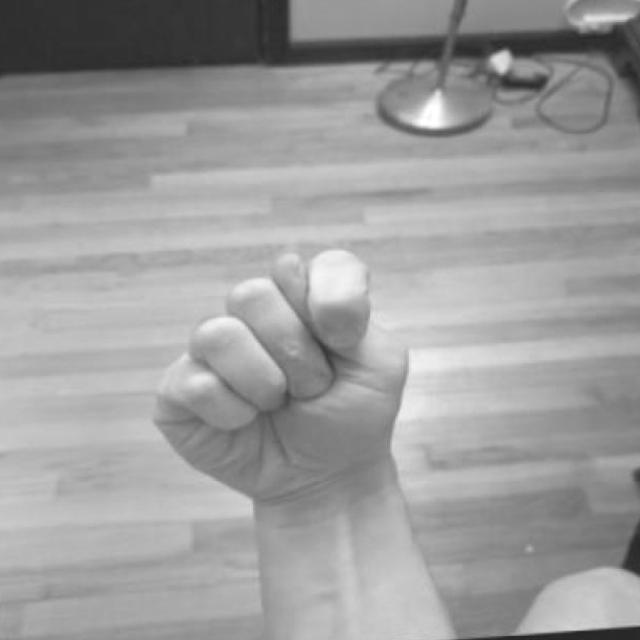T: (146, 246, 422, 524)
